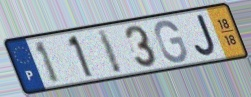1: (66, 33, 95, 79), (34, 38, 61, 85)
3: (124, 24, 158, 69)
G: (153, 19, 190, 64)
I: (95, 27, 125, 76)
J: (193, 12, 217, 58)
